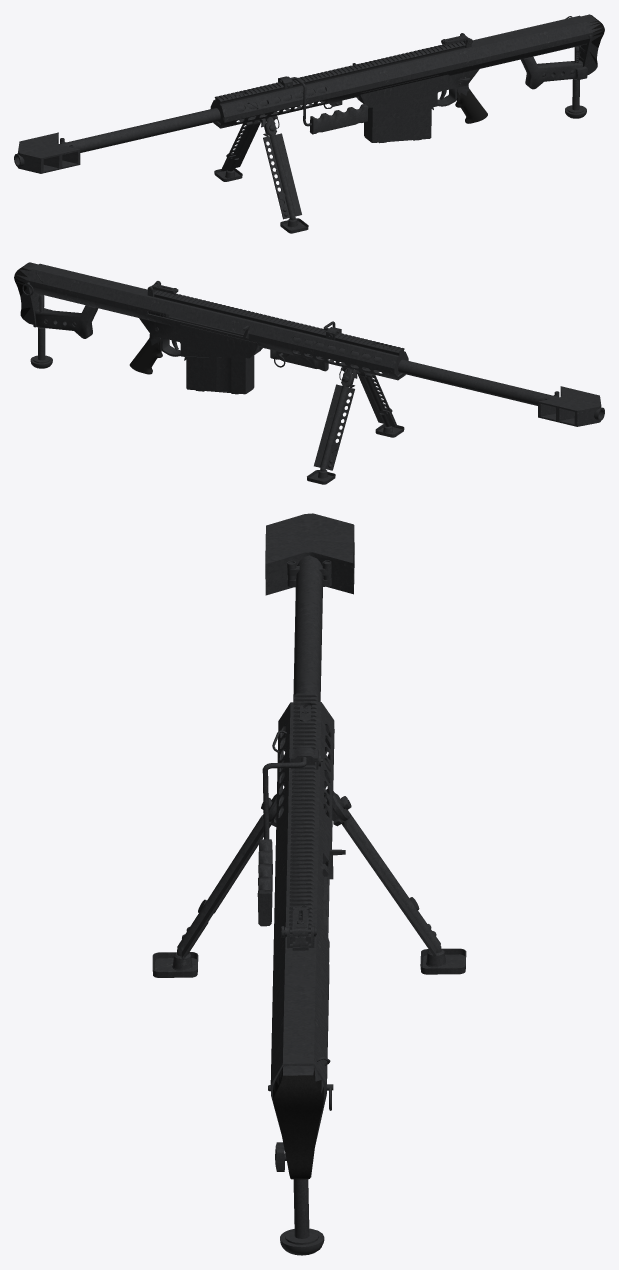
The picture shows the model from 3 angles, top to bottom: view 1: azimuth 30°, elevation 25°; view 2: azimuth 150°, elevation 25°; view 3: azimuth 270°, elevation 25°; orthographic projection. The views are drawn at different scales.
Visible parts, largest first — view 1: m82; view 2: m82; view 3: m82.
Boxes of the visible parts, <box> form: m82: <box>14,14,604,233</box>; m82: <box>14,262,604,484</box>; m82: <box>152,513,466,1255</box>.
Bounding box in the file's own units: 1.45 × 0.2869 × 0.3399.
3 materials, 3 textured.
